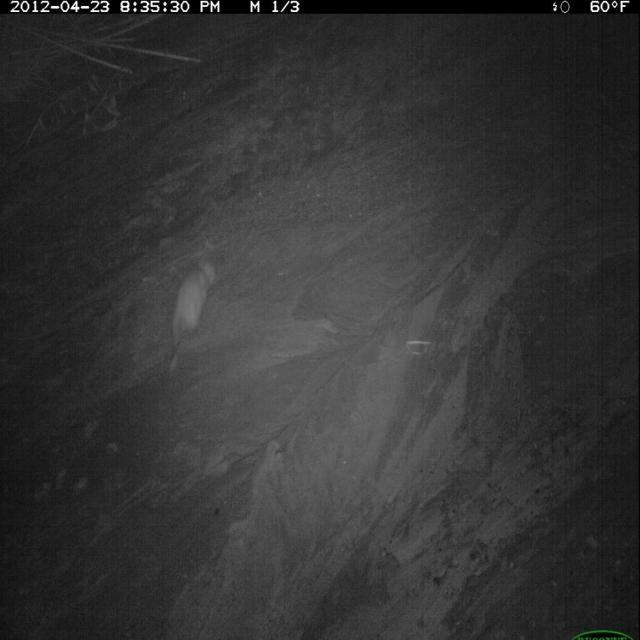opossum: (165, 252, 220, 374)
